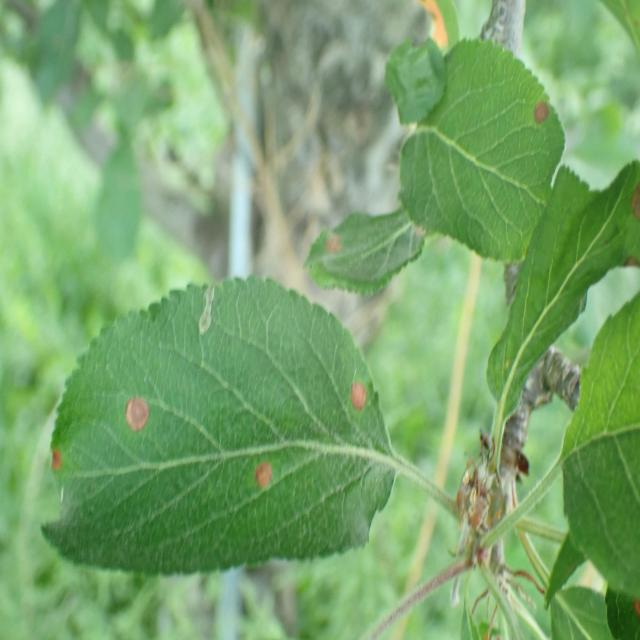frog-eye-leaf-spot: (40, 274, 397, 576), (387, 35, 566, 264)
